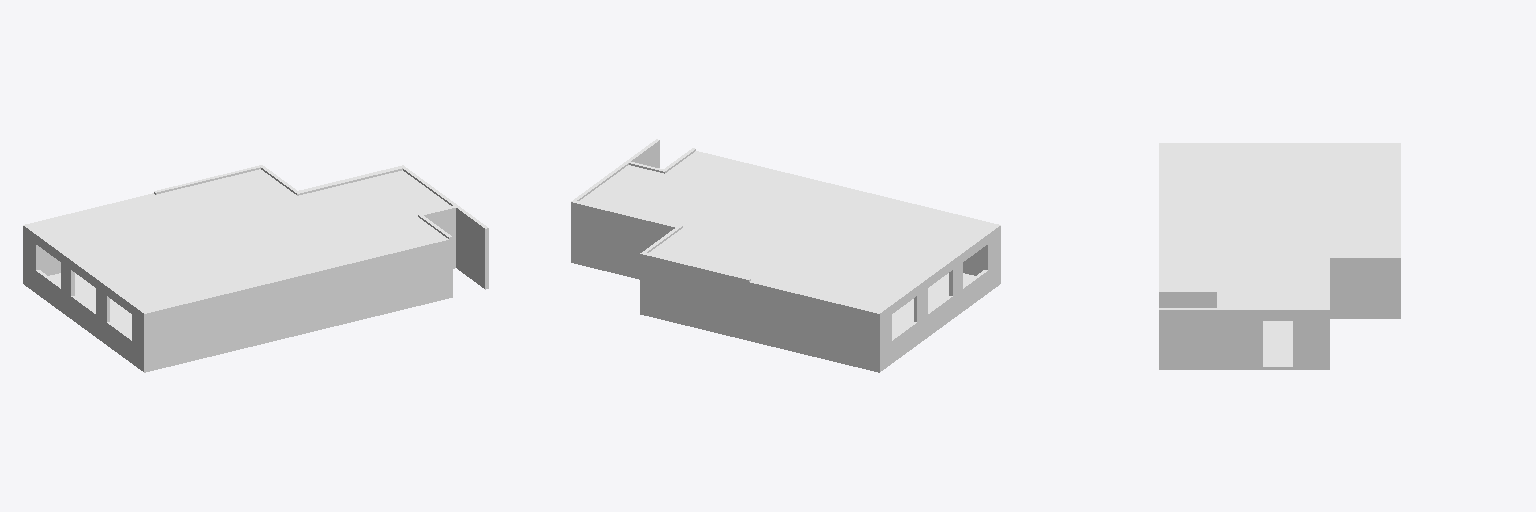
Rendered from flat01.obj.
The picture shows the model from 3 angles: view 1: azimuth 30°, elevation 25°; view 2: azimuth 150°, elevation 25°; view 3: azimuth 270°, elevation 25°; orthographic projection.
Visible parts, largest first — view 1: object 1; view 2: object 1; view 3: object 1.
Part boxes in pixels (left/top/right/bottom): object 1: left=23, top=165, right=488, bottom=372; object 1: left=571, top=139, right=1000, bottom=372; object 1: left=1159, top=143, right=1400, bottom=369.
Bounding box in the file's own units: 19 × 3.2 × 11.6.